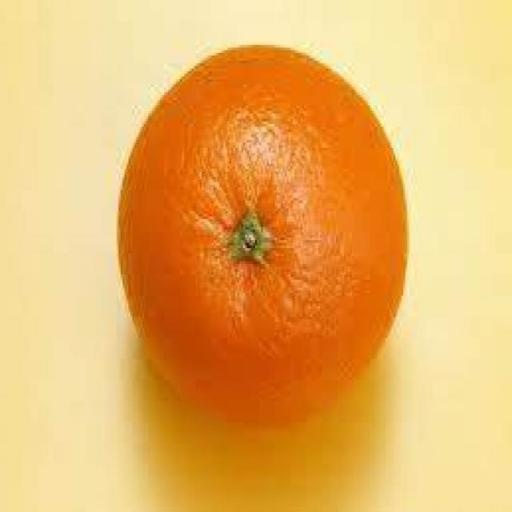fruit: (118, 47, 406, 423)
